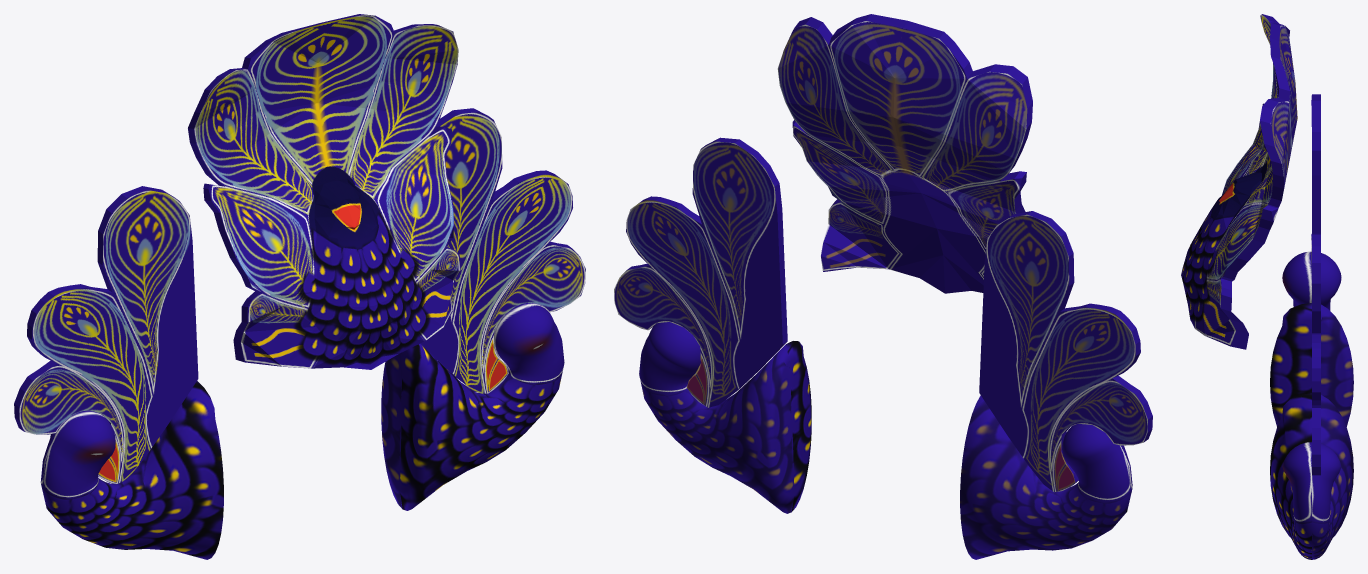
File: pchead.fbx
The picture shows the model from 3 angles, left to right: view 1: azimuth 30°, elevation 25°; view 2: azimuth 150°, elevation 25°; view 3: azimuth 270°, elevation 25°; orthographic projection. The views are drawn at different scales.
Parts seen in each view (by area): view 1: Plane.001; view 2: Plane.001; view 3: Plane.001.
Boxes of the visible parts, <box> form: Plane.001: <box>14,14,585,559</box>; Plane.001: <box>614,14,1152,559</box>; Plane.001: <box>1181,14,1353,559</box>.
Bounding box in the file's own units: 50.23 × 44.77 × 15.
